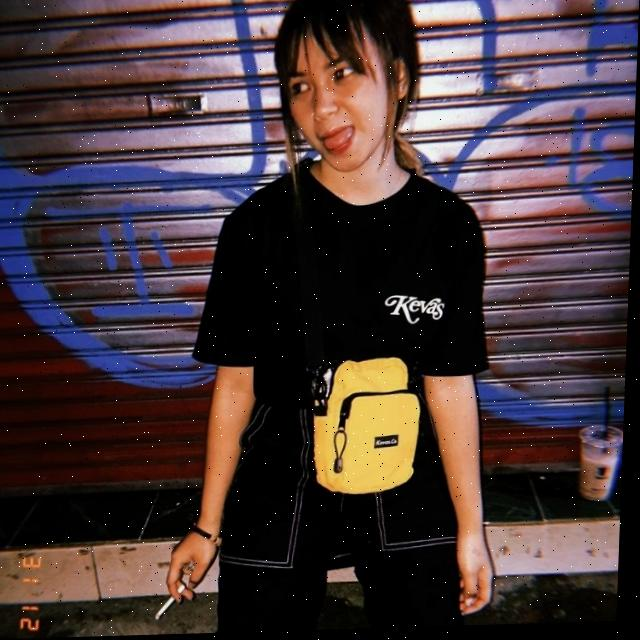cigarette: (159, 586, 189, 621)
